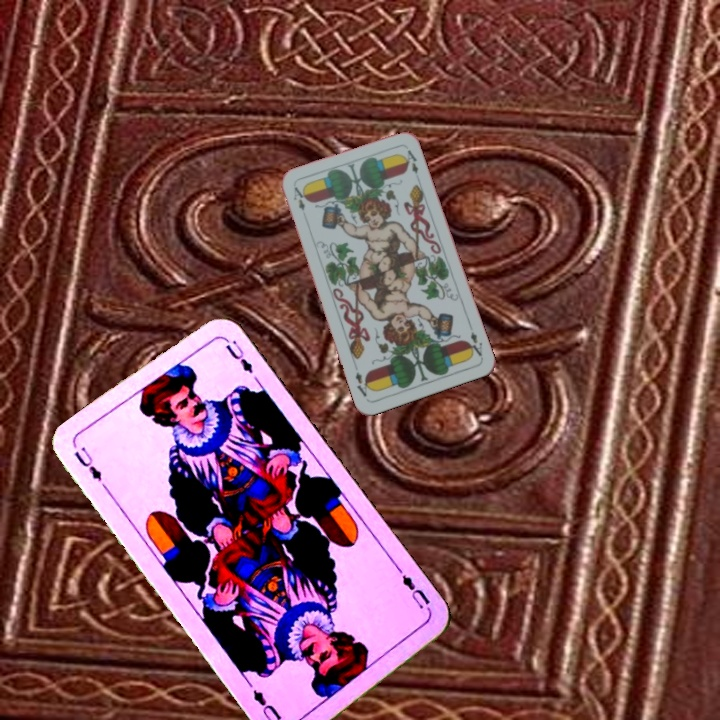EA: (464, 328, 485, 359), (290, 182, 308, 213)
EU: (394, 564, 433, 612), (70, 442, 105, 484)
